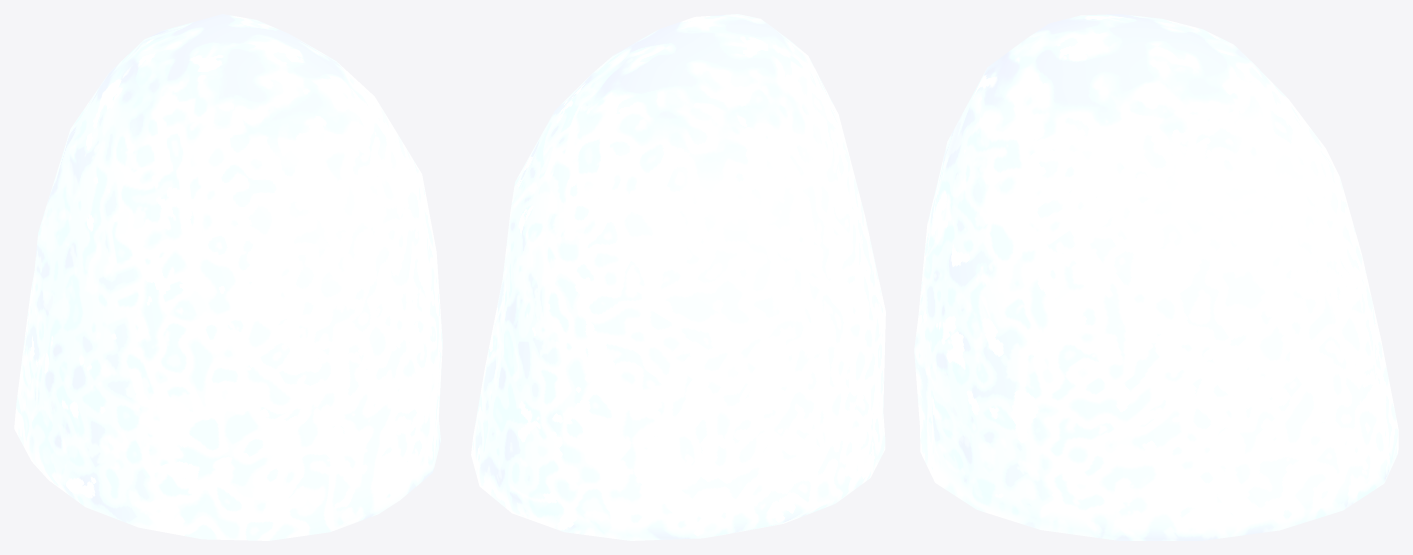
File: 086_round_stone.glb
3 views of the same model, side by side, from view 1: azimuth 30°, elevation 25°; view 2: azimuth 150°, elevation 25°; view 3: azimuth 270°, elevation 25° (orthographic). The views are drawn at different scales.
Parts seen in each view (by area): view 1: stone; view 2: stone; view 3: stone.
Part boxes in pixels (x1,y1,x2,y2): stone: (14, 14, 442, 540); stone: (471, 14, 885, 540); stone: (914, 14, 1398, 540).
Bounding box in the file's own units: 0.6382 × 0.7338 × 0.7513.
1 material, 1 textured.
